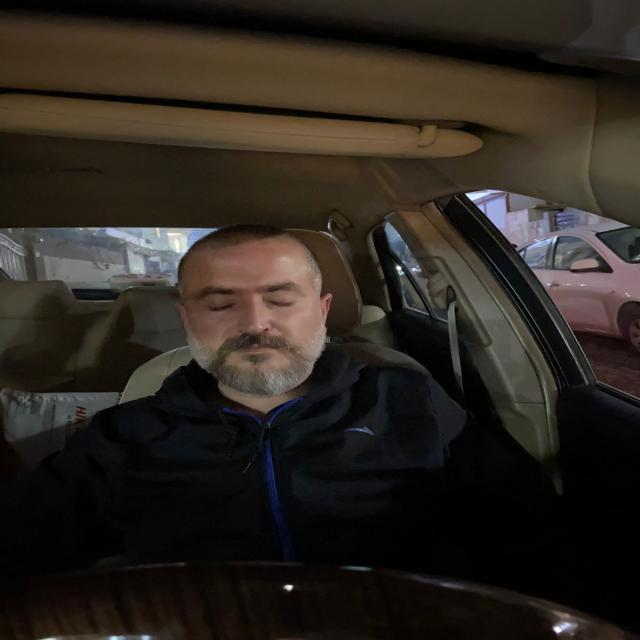drowsy: (180, 239, 334, 392)
